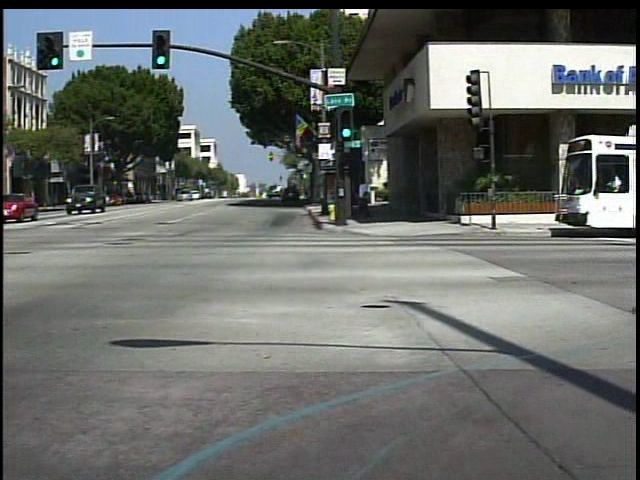person: (356, 175, 374, 222)
